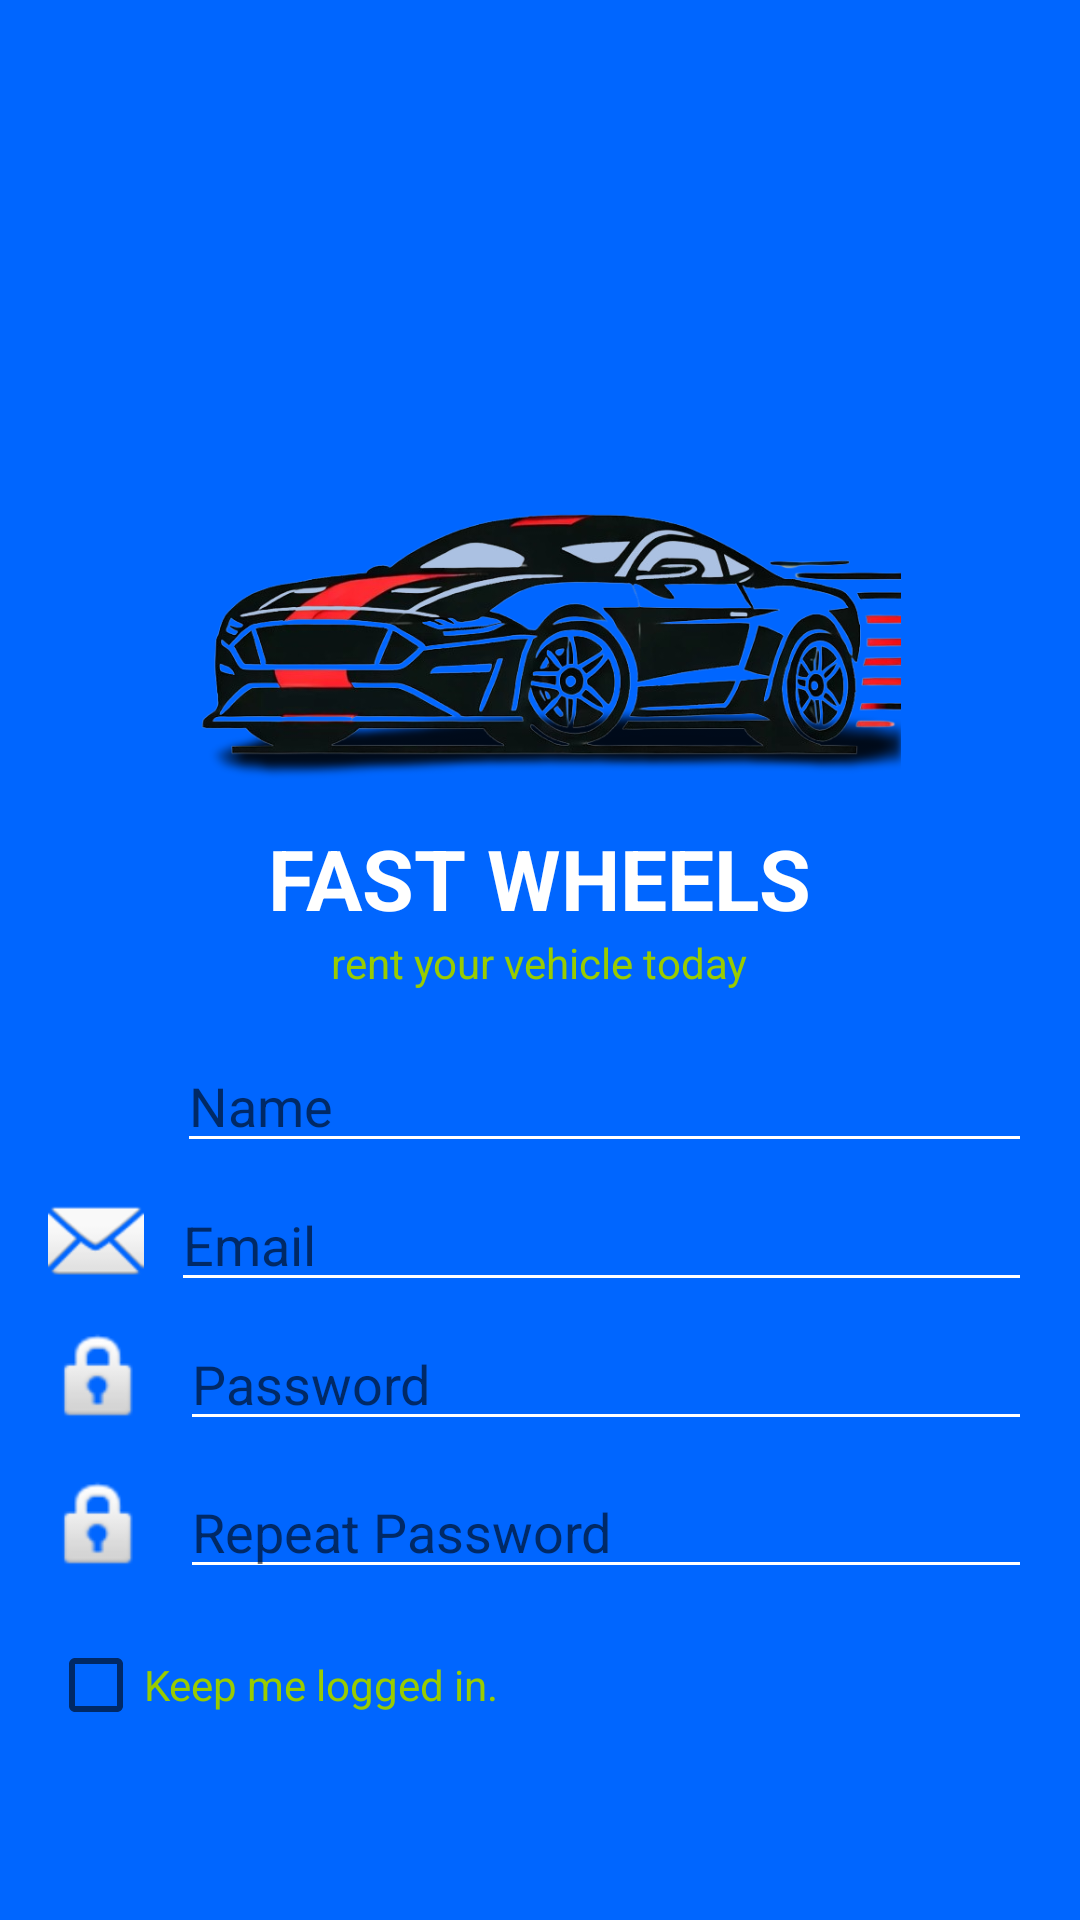

Named icons in this screenshot (1080*1920) and their bounding boxes, (x1,y1,x2,y2):
lock idle: (64,1335,133,1416), (64,1483,133,1564)
